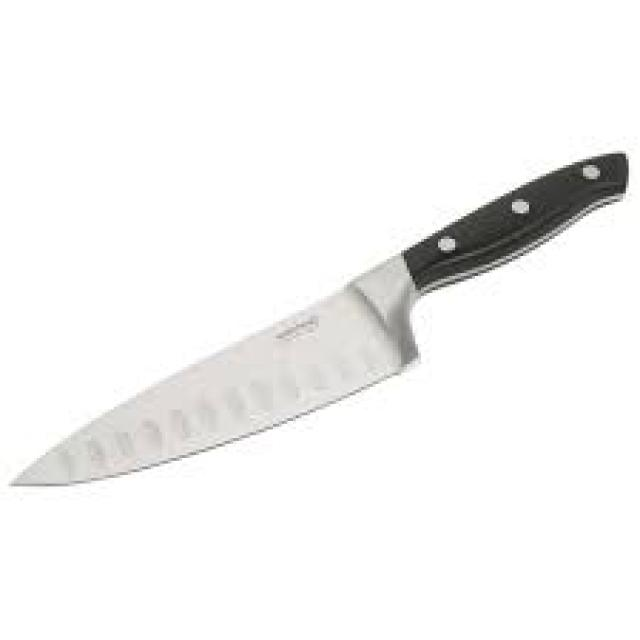knife: (1, 150, 635, 492)
